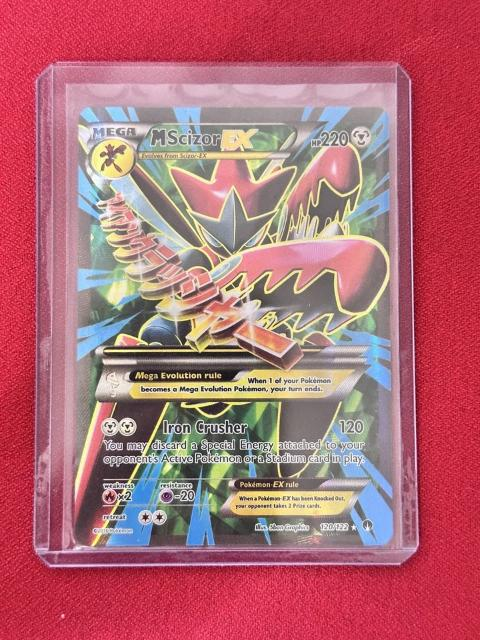Card: (67, 102, 398, 550)
Name: (146, 125, 263, 153)
